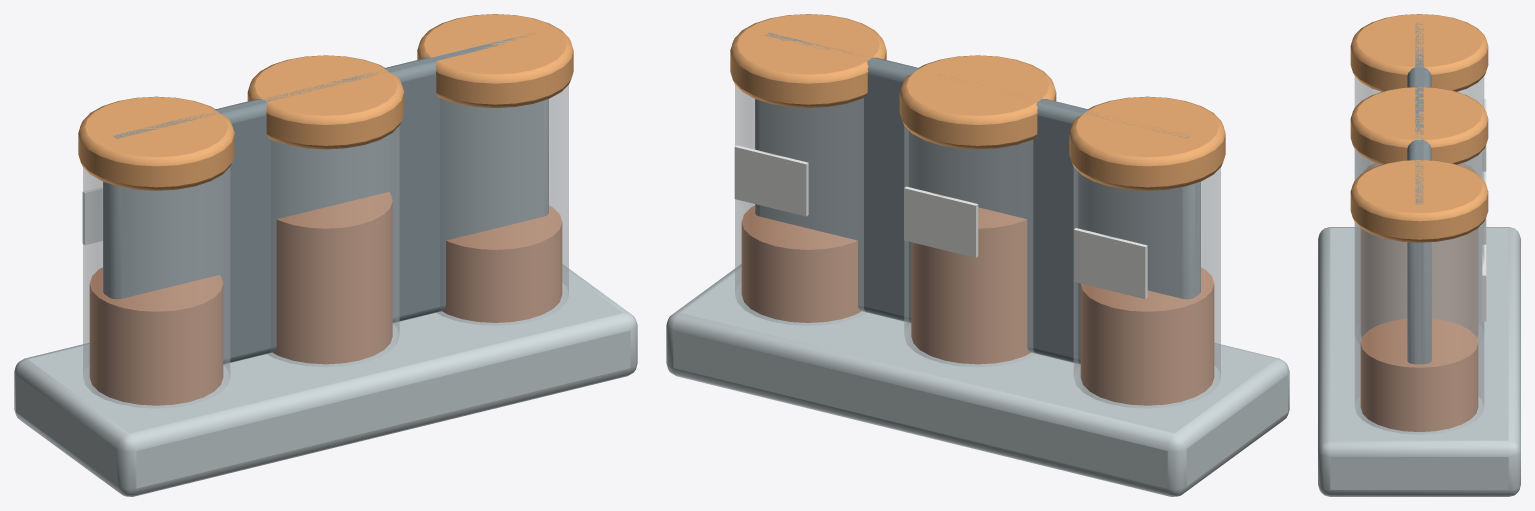
The model's file is sample_jars.glb.
3 renders of one model, left to right at view 1: azimuth 30°, elevation 25°; view 2: azimuth 150°, elevation 25°; view 3: azimuth 270°, elevation 25°, orthographic. The views are drawn at different scales.
Parts seen in each view (by area): view 1: jars_iv_clear, tray_handle_dark_alloy, tray_alloy, samples_regolith, lids_orange, labels_white_painted; view 2: jars_iv_clear, tray_alloy, tray_handle_dark_alloy, samples_regolith, lids_orange, labels_white_painted; view 3: tray_alloy, lids_orange, jars_iv_clear, samples_regolith, tray_handle_dark_alloy, labels_white_painted.
Boxes of the visible parts, bbox=[...] form: jars_iv_clear: bbox=[83, 85, 568, 408]; tray_handle_dark_alloy: bbox=[103, 33, 548, 364]; tray_alloy: bbox=[14, 264, 637, 496]; samples_regolith: bbox=[89, 192, 562, 405]; lids_orange: bbox=[78, 14, 573, 190]; labels_white_painted: bbox=[82, 187, 102, 244]; jars_iv_clear: bbox=[735, 85, 1220, 408]; tray_alloy: bbox=[666, 264, 1289, 496]; tray_handle_dark_alloy: bbox=[755, 32, 1200, 364]; samples_regolith: bbox=[741, 205, 1214, 405]; lids_orange: bbox=[730, 14, 1225, 190]; labels_white_painted: bbox=[734, 145, 1147, 299]; tray_alloy: bbox=[1318, 227, 1520, 496]; lids_orange: bbox=[1350, 14, 1488, 242]; jars_iv_clear: bbox=[1354, 77, 1484, 434]; samples_regolith: bbox=[1360, 163, 1478, 431]; tray_handle_dark_alloy: bbox=[1407, 22, 1431, 364]; labels_white_painted: bbox=[1482, 99, 1486, 321].
Size of the model in its own units: 0.26 by 0.15 by 0.1.
